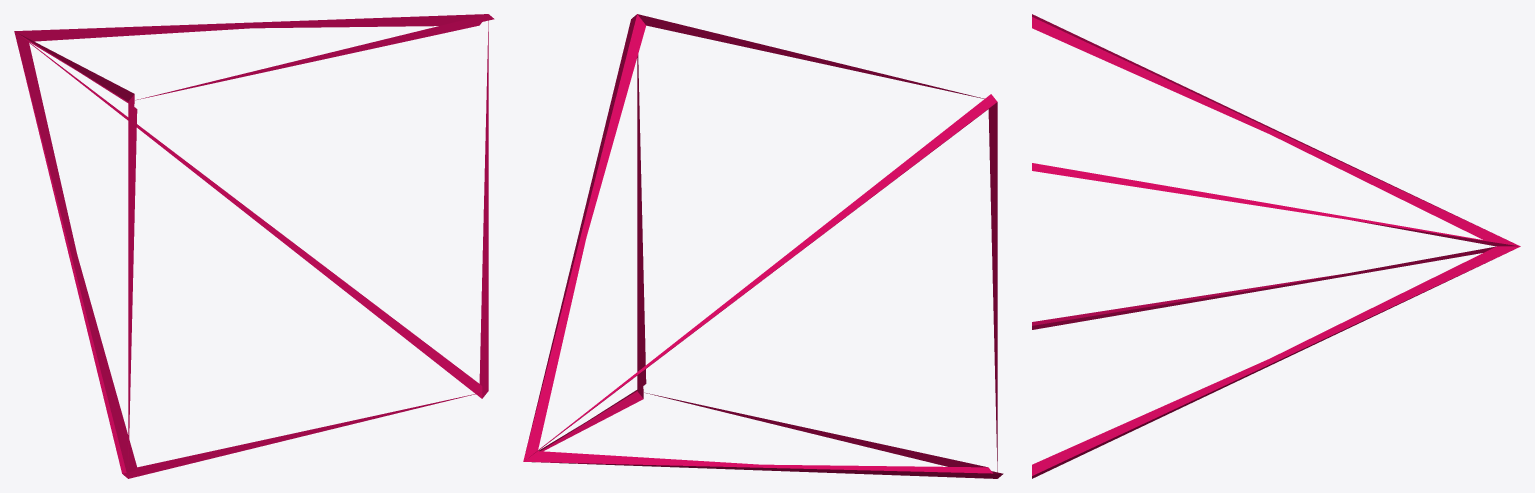
File: vggt_reconstruction.glb
3 views of the same model, side by side, from view 1: azimuth 30°, elevation 25°; view 2: azimuth 150°, elevation 25°; view 3: azimuth 270°, elevation 25° (orthographic). The views are drawn at different scales.
Parts seen in each view (by area): view 1: world; view 2: world; view 3: world.
Boxes of the visible parts, x1,y1,x2,y2 form: world: (14,14,494,478); world: (523,14,1003,478); world: (1032,14,1520,478).
Bounding box in the file's own units: 0.0427 × 0.0427 × 0.0584.
